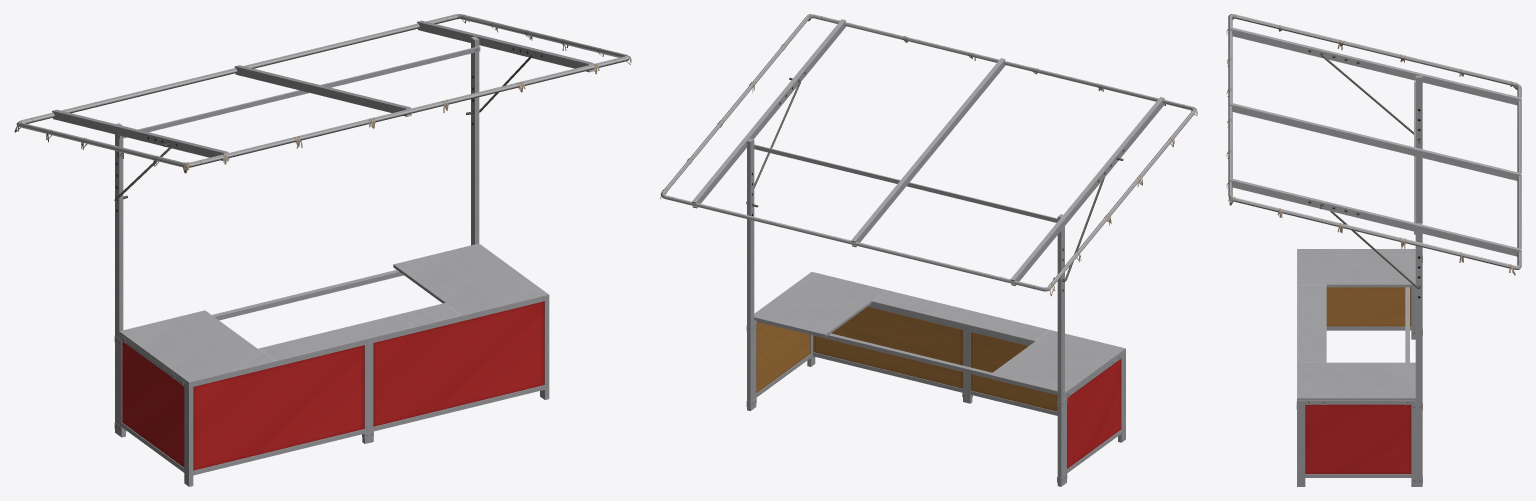
Rendered from jsf_2P_s03_c06_t03.fbx.
The picture shows the model from 3 angles, left to right: view 1: azimuth 30°, elevation 25°; view 2: azimuth 150°, elevation 25°; view 3: azimuth 270°, elevation 25°; orthographic projection. The views are drawn at different scales.
Parts seen in each view (by area): view 1: Base_s03_c06, Pillar2_s03, Table_2P_s03_t03, Rope_2P_s03; view 2: Base_s03_c06, Pillar2_s03, Table_2P_s03_t03; view 3: Pillar2_s03, Base_s03_c06, Table_2P_s03_t03, Rope_2P_s03.
Part boxes in pixels (x1,y1,x2,y2): Base_s03_c06: [114, 294, 549, 486]; Pillar2_s03: [16, 14, 629, 435]; Table_2P_s03_t03: [119, 243, 547, 385]; Rope_2P_s03: [14, 14, 631, 173]; Base_s03_c06: [746, 271, 1125, 483]; Pillar2_s03: [660, 14, 1196, 486]; Table_2P_s03_t03: [754, 272, 1125, 397]; Pillar2_s03: [1228, 14, 1521, 486]; Base_s03_c06: [1296, 249, 1422, 486]; Table_2P_s03_t03: [1298, 249, 1415, 404]; Rope_2P_s03: [1226, 14, 1517, 275].
Bounding box in the file's own units: 316 × 244 × 211.
